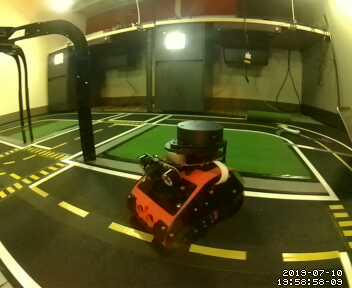pheeno: (127, 119, 246, 250)
